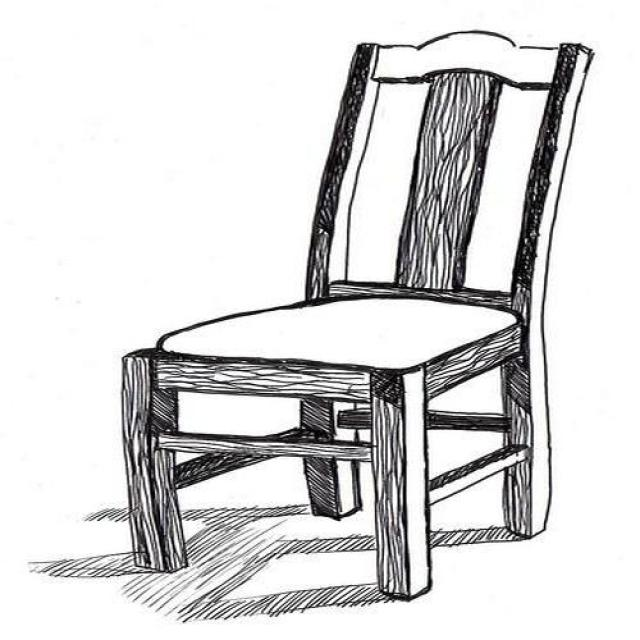chair: (123, 31, 593, 603)
